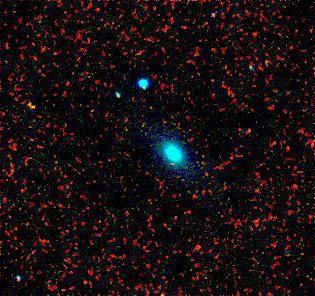star: (257, 47, 287, 77)
